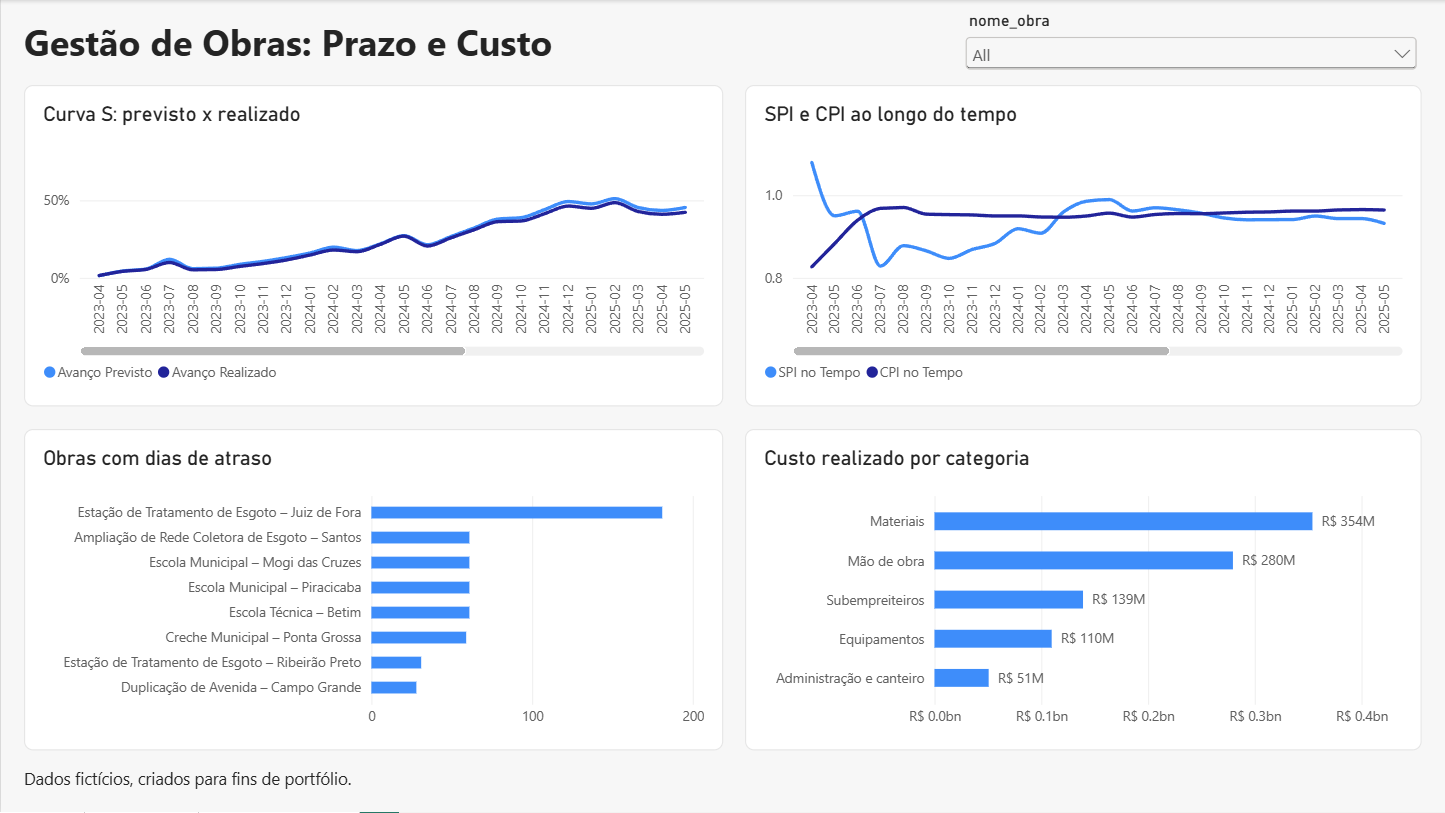

What the dashboard file says about the page in this screenshot:
{"tool":"powerbi","page":{"name":"Prazo e custo","canvas":[1280,720],"ordinal":1},"visuals":[{"type":"textbox","box":[20.4,15,800,45],"z":0},{"type":"textbox","box":[20,680,600,30],"z":1},{"type":"lineChart","title":"Curva S: previsto x realizado","fields":{"Category":["dim_tempo.ano_mes"],"Y":["_Medidas.Avanço Previsto","_Medidas.Avanço Realizado"]},"box":[20,75,620,285],"z":2},{"type":"slicer","fields":{"Values":["dim_obra.nome_obra"]},"box":[850,10,410,60],"z":3},{"type":"lineChart","title":"SPI e CPI ao longo do tempo","fields":{"Category":["dim_tempo.ano_mes"],"Y":["_Medidas.SPI no Tempo","_Medidas.CPI no Tempo"]},"box":[660,75,600,285],"z":4},{"type":"clusteredBarChart","title":"Obras com dias de atraso","fields":{"Category":["vw_obra_situacao_atual.nome_obra"],"Y":["Max(vw_obra_situacao_atual.dias_atraso)"]},"box":[20,380,620,285],"z":5},{"type":"clusteredBarChart","title":"Custo realizado por categoria","fields":{"Category":["dim_categoria_custo.nome_categoria"],"Y":["_Medidas.Custo Realizado"]},"box":[660,380,600,285],"z":6}]}

Visuals, with their boxes in screenshot pixels (x1, y1, x2, y2), scaled from the page's 1280x720 canvas onto the 1445x813 screenshot:
textbox: Rect(23, 17, 926, 68)
textbox: Rect(23, 768, 700, 802)
"Curva S: previsto x realizado" lineChart: Rect(23, 85, 722, 406)
slicer - dim_obra.nome_obra: Rect(960, 11, 1422, 79)
"SPI e CPI ao longo do tempo" lineChart: Rect(745, 85, 1422, 406)
"Obras com dias de atraso" clusteredBarChart: Rect(23, 429, 722, 751)
"Custo realizado por categoria" clusteredBarChart: Rect(745, 429, 1422, 751)
